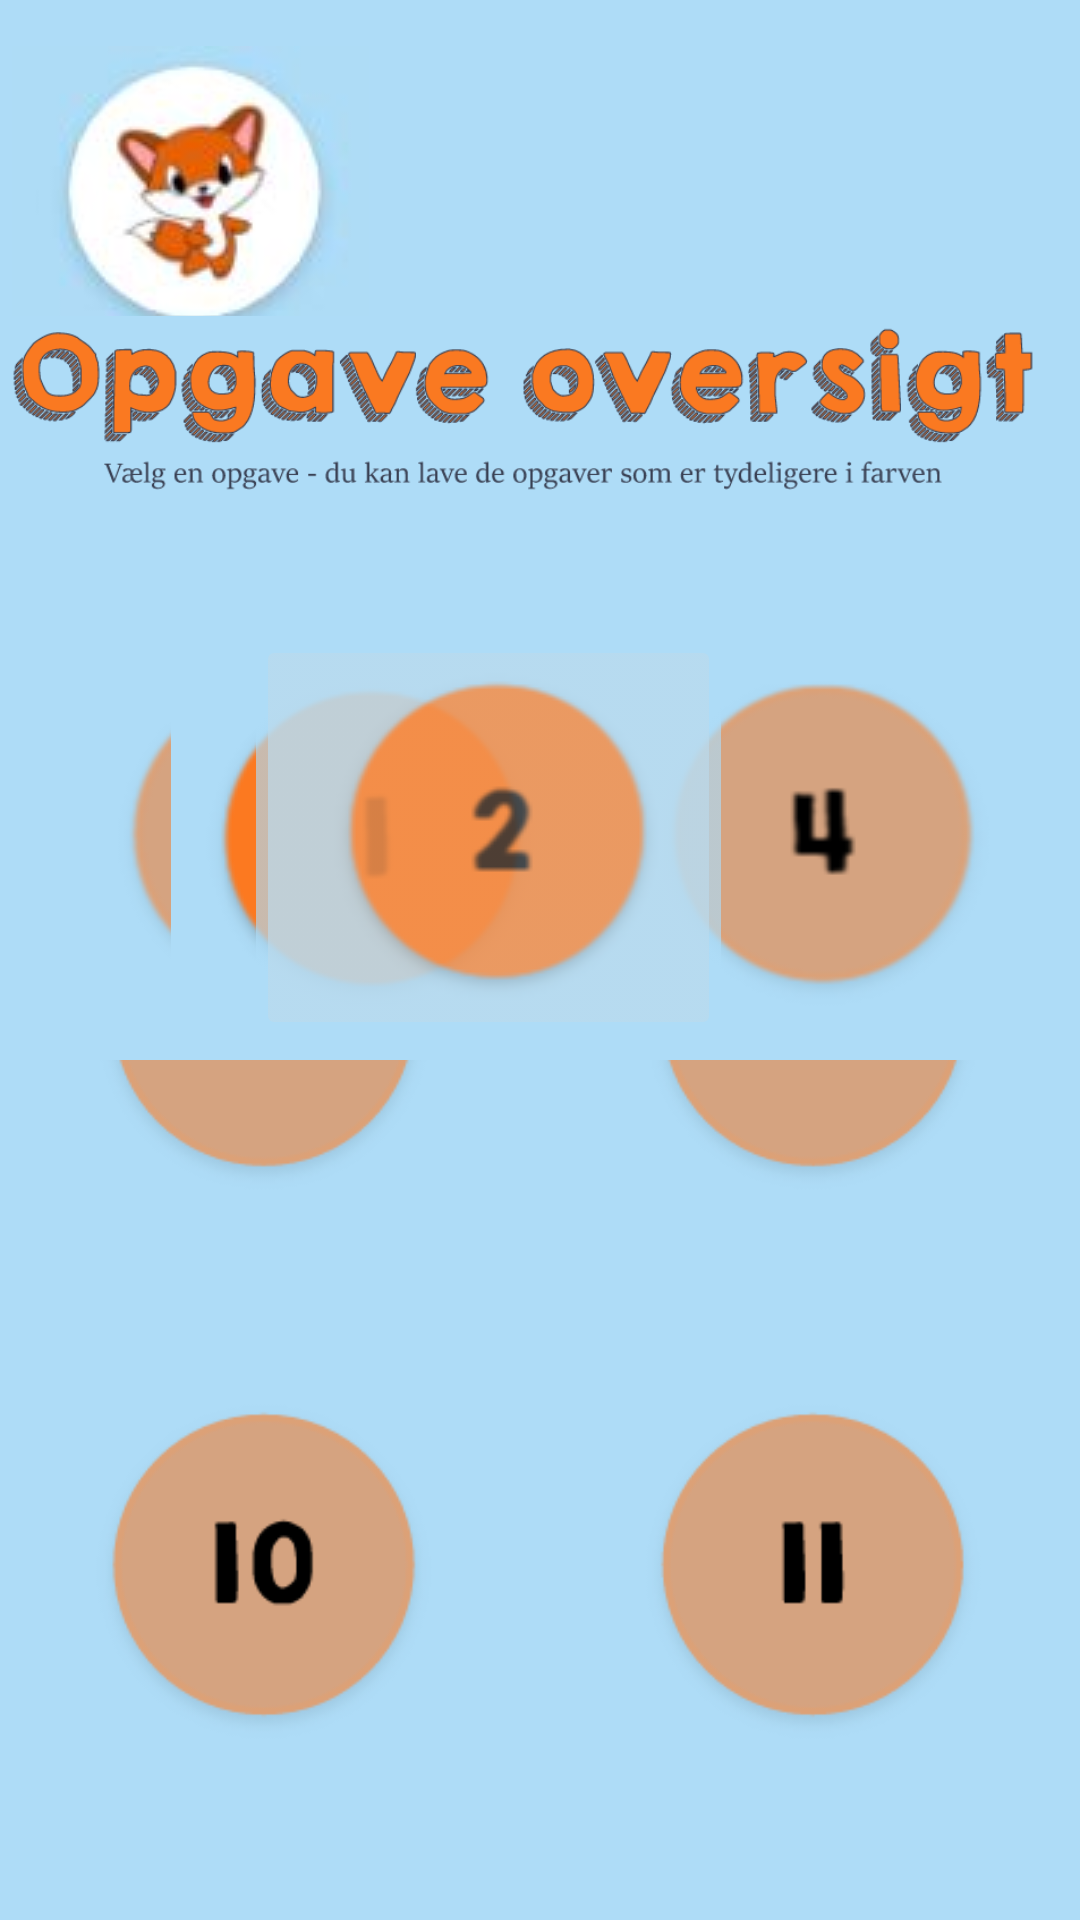

Icons on this 1080×1920 Android screen, each with the point to tap as (x=x, y=y):
dinprofil: (x=195, y=191)
